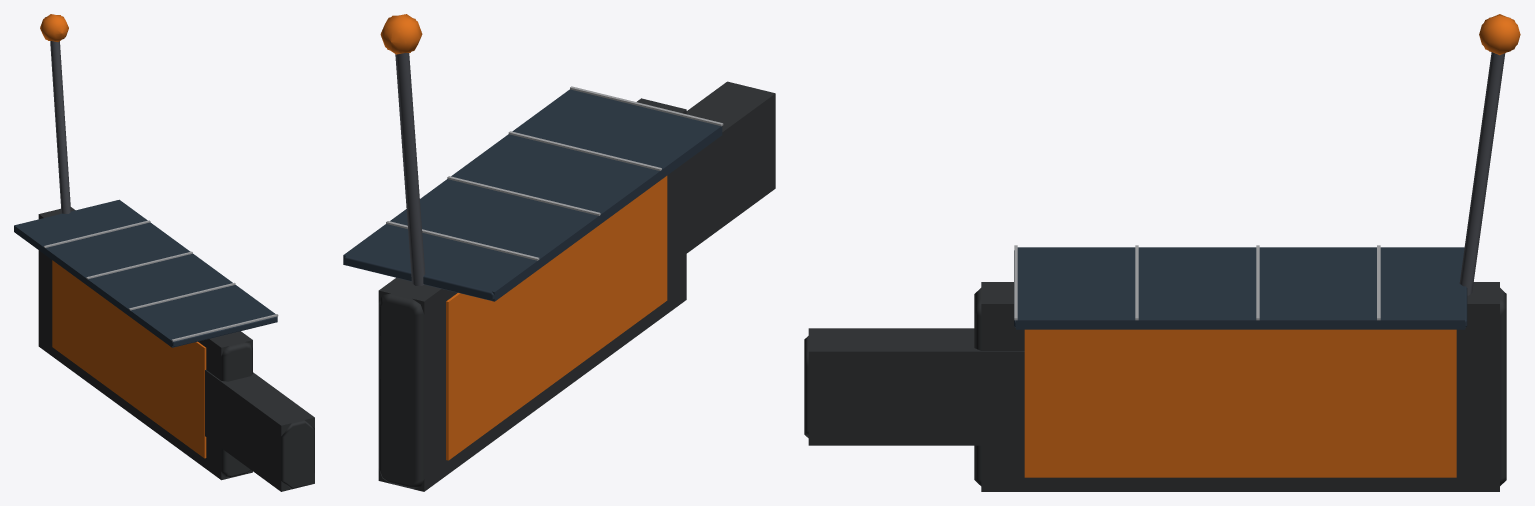
File: st_carpet.glb
3 views of the same model, side by side, from view 1: azimuth 30°, elevation 25°; view 2: azimuth 150°, elevation 25°; view 3: azimuth 270°, elevation 25° (orthographic). The views are drawn at different scales.
Parts seen in each view (by area): view 1: L0, L1; view 2: L0, L1; view 3: L0, L1.
Part boxes in pixels (x1,y1,x2,y2): L0: [14, 14, 314, 489]; L1: [14, 15, 314, 491]; L0: [343, 14, 775, 488]; L1: [343, 15, 775, 491]; L0: [804, 15, 1520, 485]; L1: [808, 14, 1515, 491].
Size of the model in its own units: 0.1 by 0.297 by 0.4144.
